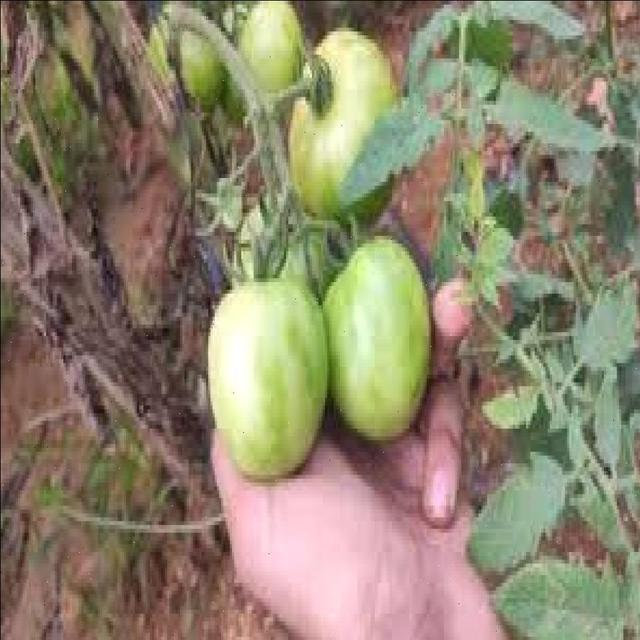Spotted wilt Virus Fruit: (75, 138, 252, 253)
